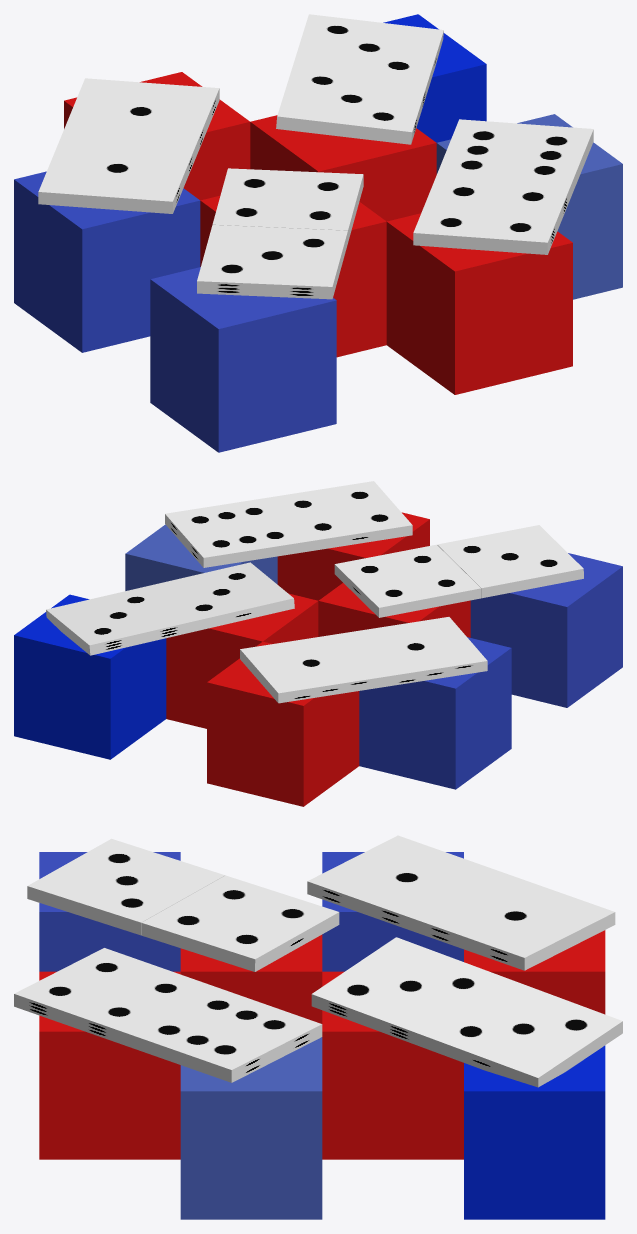
The model's file is blocks_8.glb.
3 views of the same model, one above another, from view 1: azimuth 30°, elevation 25°; view 2: azimuth 150°, elevation 25°; view 3: azimuth 270°, elevation 25° (orthographic). The views are drawn at different scales.
Visible parts, largest first — view 1: Cube.010, Cube.014, Cube.013, Cube.011, Cube.005, Cube.002, Cube.006, Cube.004, Cube.001, Cube, Cube.007, Cube.012 (+4 smaller); view 2: Cube.009, Cube.015, Cube.013, Cube.010, Cube.011, Cube.007, Cube.001, Cube, Cube.006, Cube.005, Cube.002, Cube.003 (+4 smaller); view 3: Cube.012, Cube.009, Cube.011, Cube.014, Cube.003, Cube.004, Cube, Cube.001, Cube.007, Cube.006, Cube.005, Cube.002 (+4 smaller).
Boxes of the visible parts, <box> form: Cube.010: <box>150,267,336,452</box>; Cube.014: <box>386,213,572,394</box>; Cube.013: <box>14,171,200,352</box>; Cube.011: <box>250,115,436,221</box>; Cube.005: <box>38,135,196,213</box>; Cube.002: <box>413,176,570,254</box>; Cube.006: <box>197,225,347,299</box>; Cube.004: <box>276,65,427,144</box>; Cube.001: <box>436,119,593,197</box>; Cube: <box>62,78,219,156</box>; Cube.007: <box>212,168,363,242</box>; Cube.012: <box>436,114,622,299</box>; Cube.009: <box>14,594,166,759</box>; Cube.015: <box>207,641,359,806</box>; Cube.013: <box>359,637,511,789</box>; Cube.010: <box>470,553,622,707</box>; Cube.011: <box>166,593,318,728</box>; Cube.007: <box>334,544,481,617</box>; Cube.001: <box>165,497,308,567</box>; Cube: <box>240,633,382,703</box>; Cube.006: <box>437,525,583,598</box>; Cube.005: <box>345,617,487,687</box>; Cube.002: <box>270,481,412,551</box>; Cube.003: <box>46,586,192,655</box>; Cube.012: <box>180,1037,322,1219</box>; Cube.009: <box>464,1045,605,1219</box>; Cube.011: <box>322,971,463,1159</box>; Cube.014: <box>39,971,180,1159</box>; Cube.003: <box>425,979,622,1087</box>; Cube.004: <box>311,937,509,1048</box>; Cube: <box>416,873,615,970</box>; Cube.001: <box>123,986,322,1082</box>; Cube.007: <box>141,875,339,971</box>; Cube.006: <box>27,838,224,935</box>; Cube.005: <box>307,835,505,932</box>; Cube.002: <box>14,948,212,1044</box>.
Bounding box in the file's own units: 8.12 × 2.49 × 8.61.
9 materials, 1 textured.
